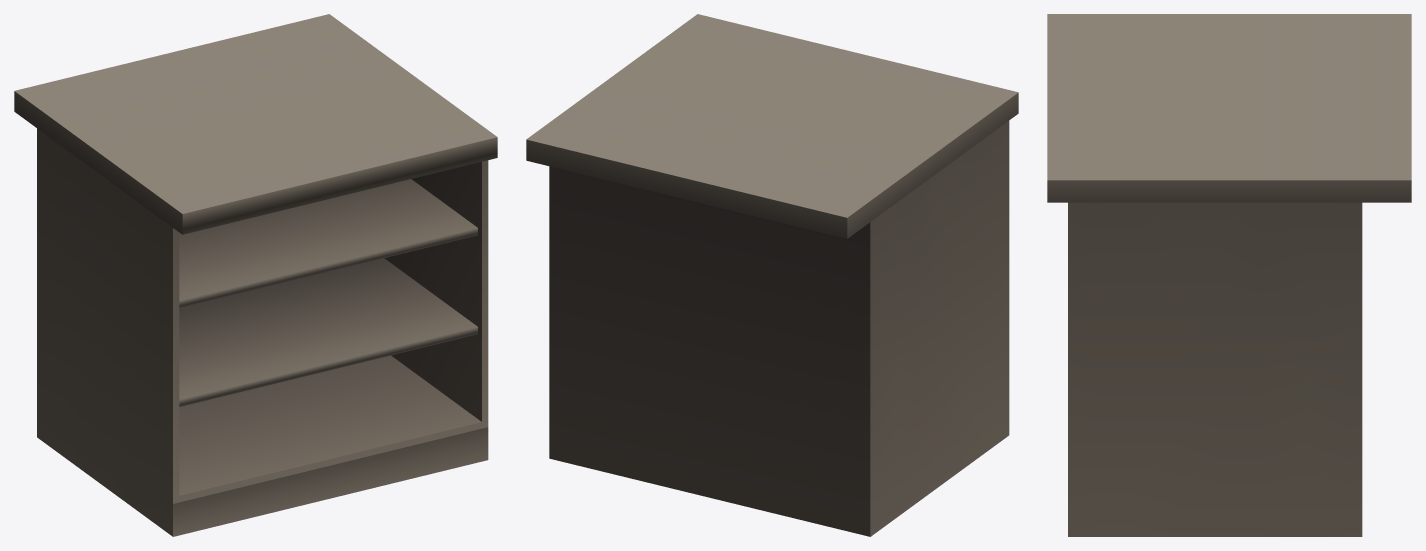
File: TSP_Kitchen_Cabinet_04A.fbx
The picture shows the model from 3 angles, left to right: view 1: azimuth 30°, elevation 25°; view 2: azimuth 150°, elevation 25°; view 3: azimuth 270°, elevation 25°; orthographic projection. The views are drawn at different scales.
Parts seen in each view (by area): view 1: TSP_Kitchen_Cabinet_04A; view 2: TSP_Kitchen_Cabinet_04A; view 3: TSP_Kitchen_Cabinet_04A.
Part boxes in pixels (x1=…): TSP_Kitchen_Cabinet_04A: x1=14, y1=14, x2=497, y2=536; TSP_Kitchen_Cabinet_04A: x1=526, y1=14, x2=1018, y2=536; TSP_Kitchen_Cabinet_04A: x1=1047, y1=14, x2=1411, y2=536.
Bounding box in the file's own units: 1 × 1 × 0.925.
